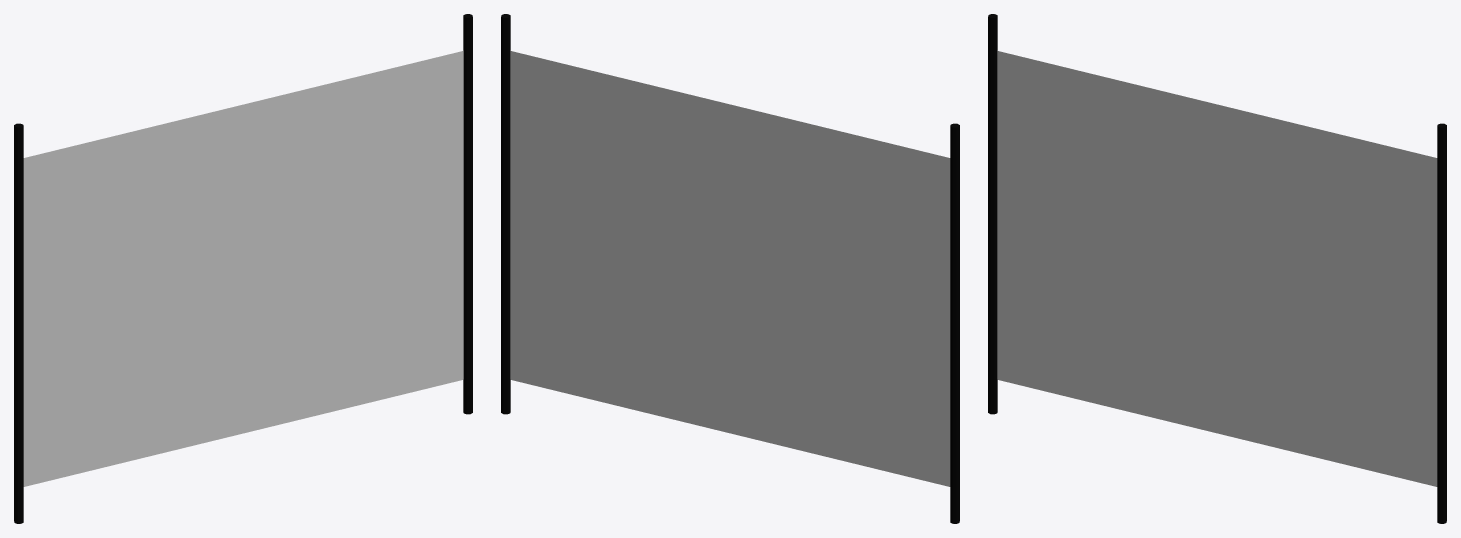
The model's file is NeonXCountBlock.fbx.
3 views of the same model, side by side, from view 1: azimuth 30°, elevation 25°; view 2: azimuth 150°, elevation 25°; view 3: azimuth 330°, elevation 25° (orthographic).
Visible parts, largest first — view 1: Plane, Cylinder, Cylinder.001; view 2: Plane, Cylinder, Cylinder.001; view 3: Plane, Cylinder, Cylinder.001.
Boxes of the visible parts, bbox=[...] form: Plane: bbox=[23, 51, 463, 486]; Cylinder: bbox=[14, 123, 23, 523]; Cylinder.001: bbox=[463, 14, 472, 414]; Plane: bbox=[510, 51, 950, 486]; Cylinder: bbox=[950, 123, 959, 523]; Cylinder.001: bbox=[501, 14, 510, 414]; Plane: bbox=[997, 51, 1437, 486]; Cylinder: bbox=[988, 14, 997, 414]; Cylinder.001: bbox=[1437, 123, 1446, 523].
Bounding box in the file's own units: 815 × 675 × 15.33.
Materials: 1 (1 with a texture image).
